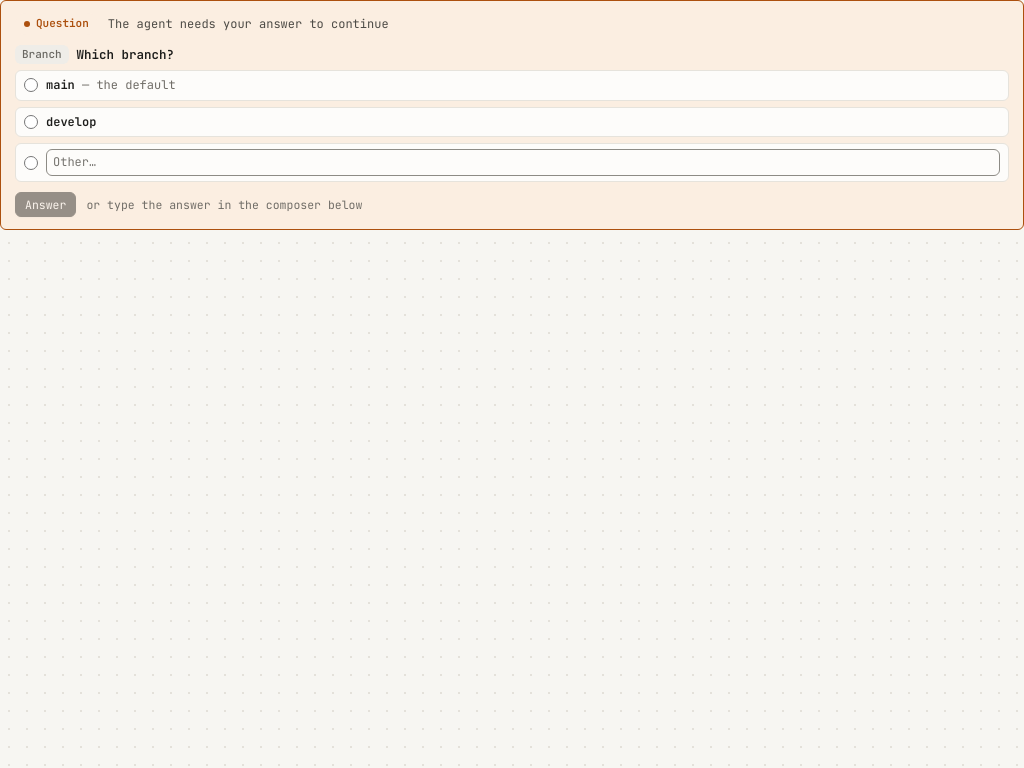
Scenario: AskForm: a question › shows an error from the API and keeps the form
This screenshot has width=1024, height=768.
Click the radio button labelled "develop".
click(31, 122)  # box [24,115,38,129]
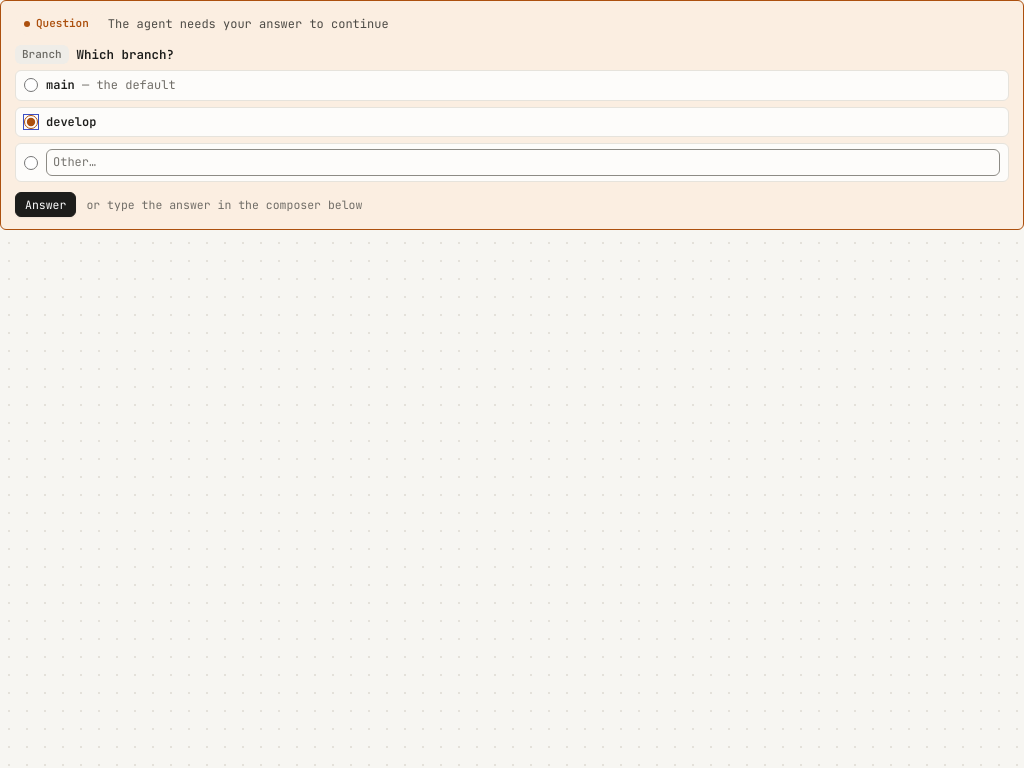
Click the button "Answer".
click(46, 205)  # box [15,192,76,217]
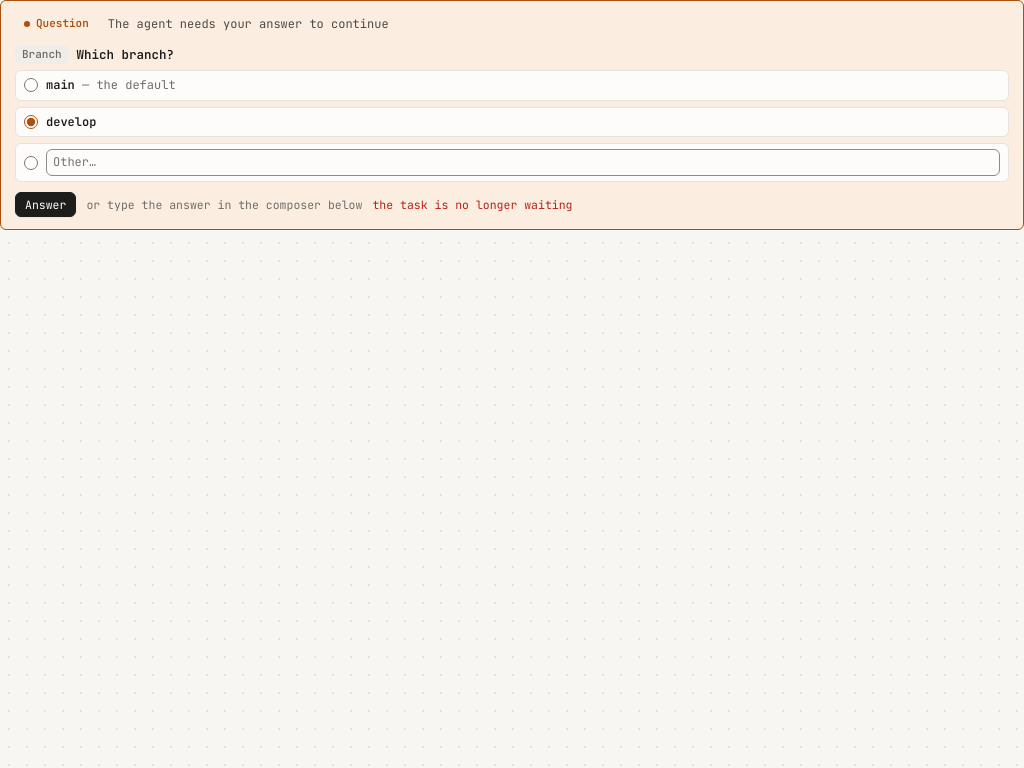
expect the button "Answer" is enabled: met, box [15,192,76,217]
expect the text "the task is no longer waiting" is shown: met, box [372,196,572,214]
